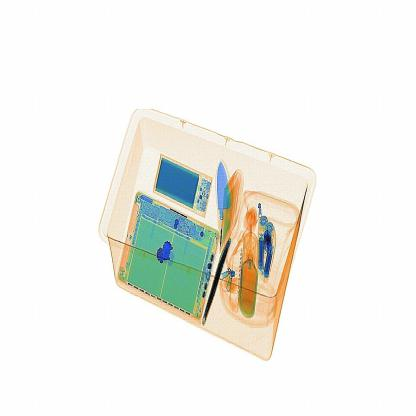wrench: (212, 158, 234, 241)
